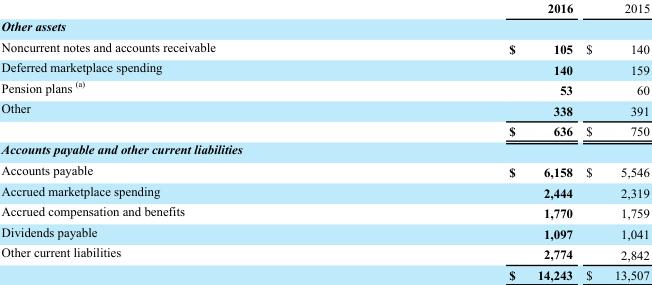table: (0, 0, 649, 281)
table column: (0, 0, 361, 281), (361, 0, 578, 281), (578, 0, 649, 281)
table column header: (0, 0, 649, 16)
table projected row header: (0, 16, 649, 36), (0, 140, 649, 159)
table row: (0, 36, 649, 58), (0, 77, 649, 99), (0, 159, 649, 181), (0, 242, 649, 264), (0, 99, 649, 120), (0, 201, 649, 222), (0, 16, 649, 36), (0, 120, 649, 140), (0, 181, 649, 201), (0, 222, 649, 242), (0, 58, 649, 77), (0, 140, 649, 159), (0, 264, 649, 281), (0, 0, 649, 16)
